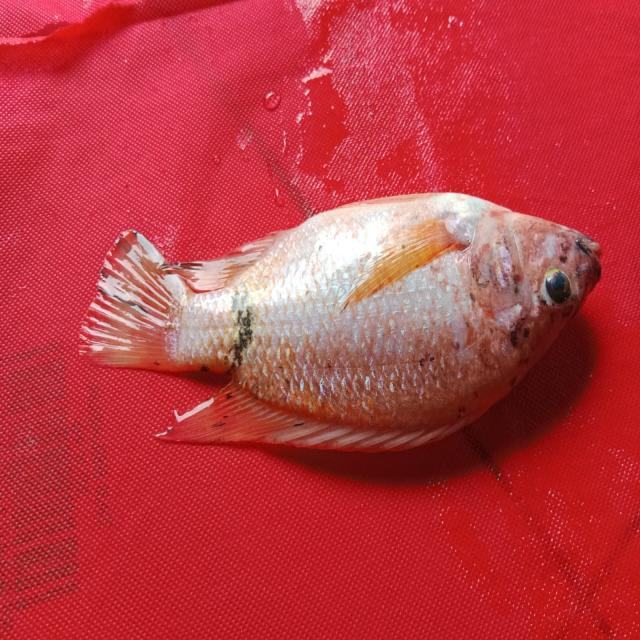ikan: (70, 168, 611, 489)
